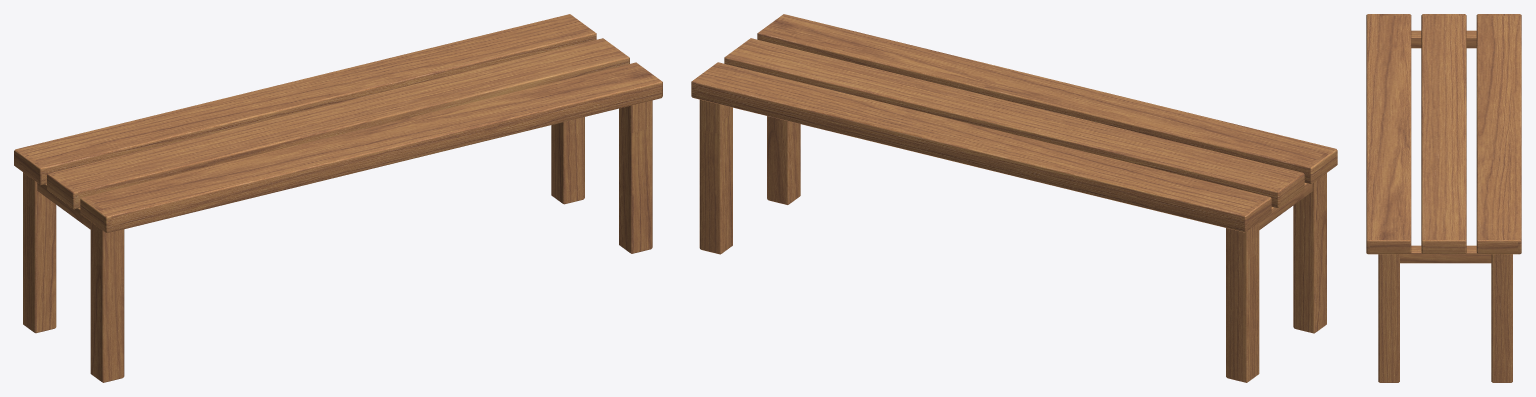
Rendered from SM_bench_02.fbx.
The picture shows the model from 3 angles, left to right: view 1: azimuth 30°, elevation 25°; view 2: azimuth 150°, elevation 25°; view 3: azimuth 270°, elevation 25°; orthographic projection. The views are drawn at different scales.
Visible parts, largest first — view 1: bench01; view 2: bench01; view 3: bench01.
Boxes of the visible parts, left/top/right/bottom form: bench01: left=14, top=14, right=662, bottom=382; bench01: left=691, top=14, right=1337, bottom=382; bench01: left=1366, top=14, right=1521, bottom=382.
Bounding box in the file's own units: 66.27 × 19.67 × 19.16.
1 material, 1 textured.
